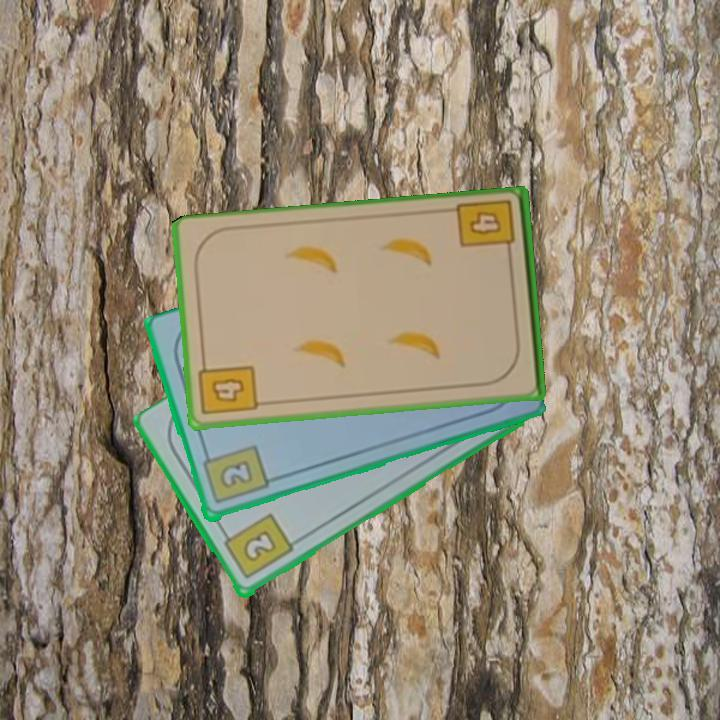2b: (218, 510, 296, 583), (199, 442, 271, 508)
4b: (454, 196, 518, 262), (196, 356, 260, 418)
